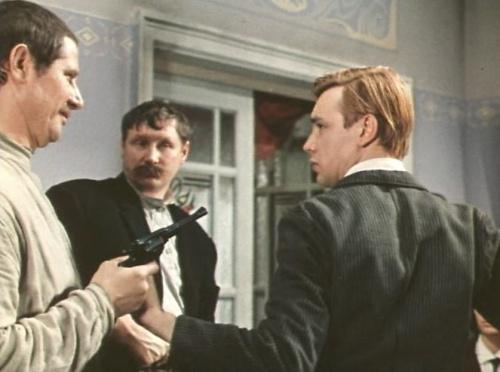Gun: (122, 205, 209, 268)
